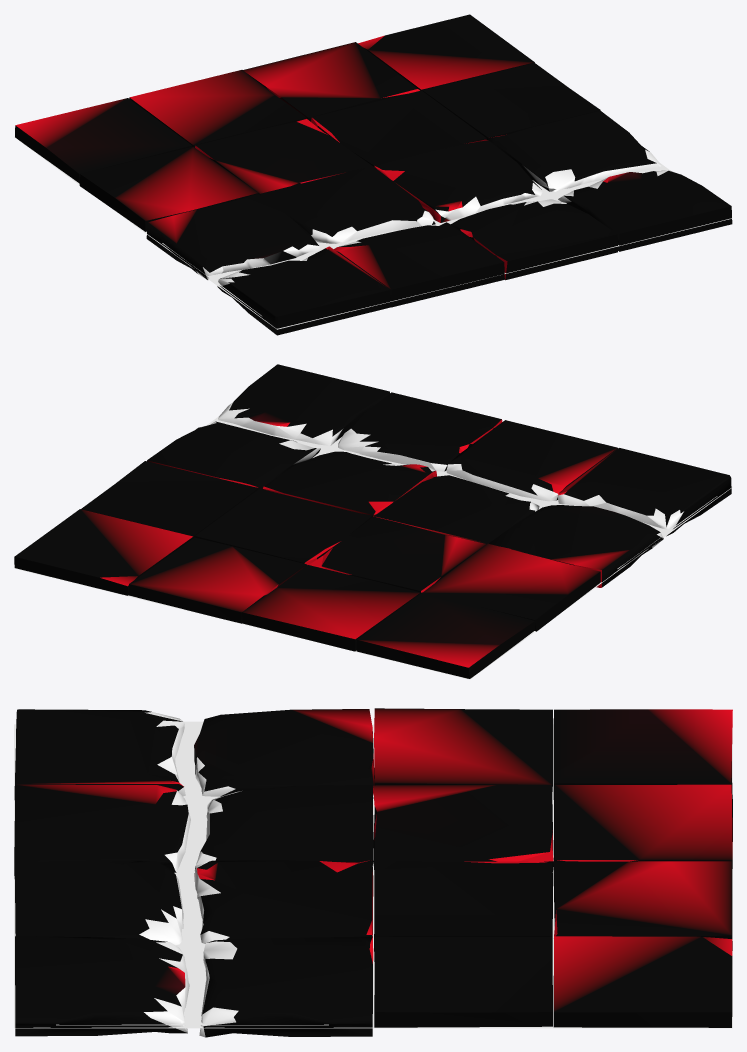
Rendered from SM_Ground_Goth_Blood.fbx.
The picture shows the model from 3 angles, top to bottom: view 1: azimuth 30°, elevation 25°; view 2: azimuth 150°, elevation 25°; view 3: azimuth 270°, elevation 25°; orthographic projection. The views are drawn at different scales.
Parts seen in each view (by area): view 1: SM_Ground_Goth_Blood; view 2: SM_Ground_Goth_Blood; view 3: SM_Ground_Goth_Blood.
Boxes of the visible parts, x1,y1,x2,y2 form: SM_Ground_Goth_Blood: (14,14,732,335); SM_Ground_Goth_Blood: (14,364,732,679); SM_Ground_Goth_Blood: (14,708,732,1037).
Bounding box in the file's own units: 401 × 400 × 17.51.
